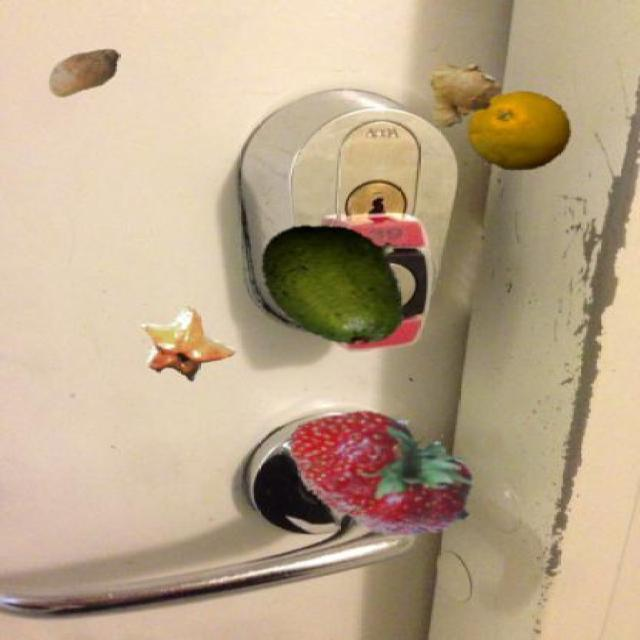Orange: (464, 90, 574, 170)
Strawberry: (282, 391, 488, 547)
